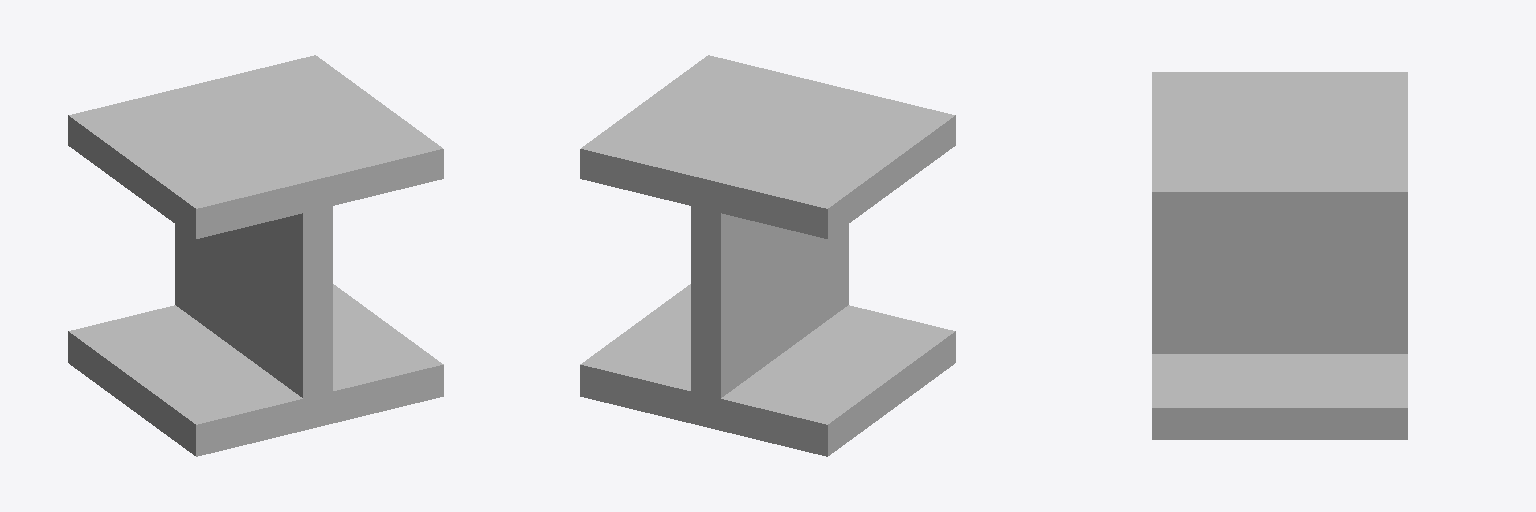
File: steel_h.obj
3 renders of one model, left to right at view 1: azimuth 30°, elevation 25°; view 2: azimuth 150°, elevation 25°; view 3: azimuth 270°, elevation 25°, orthographic.
Parts seen in each view (by area): view 1: ___; view 2: ___; view 3: ___.
Part boxes in pixels (bbox=[...]): ___: bbox=[68, 55, 443, 456]; ___: bbox=[580, 55, 955, 456]; ___: bbox=[1152, 72, 1407, 439].
Size of the model in its own units: 81.1 by 77.68 by 72.65.